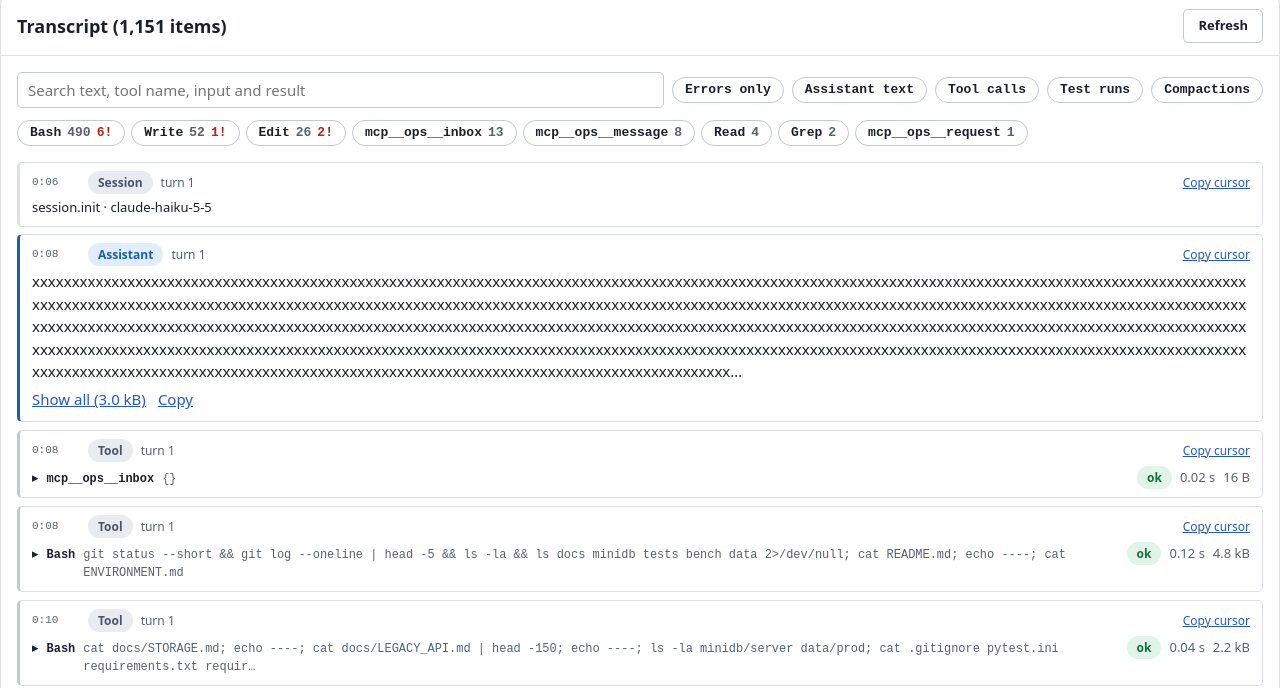
Test: Transcript tab › collapses long text with an expand toggle
The image size is (1280, 688).
Click the button "Show all (3.0 kB)".
click(89, 400)  # box [32,389,146,411]
(page scrolled)
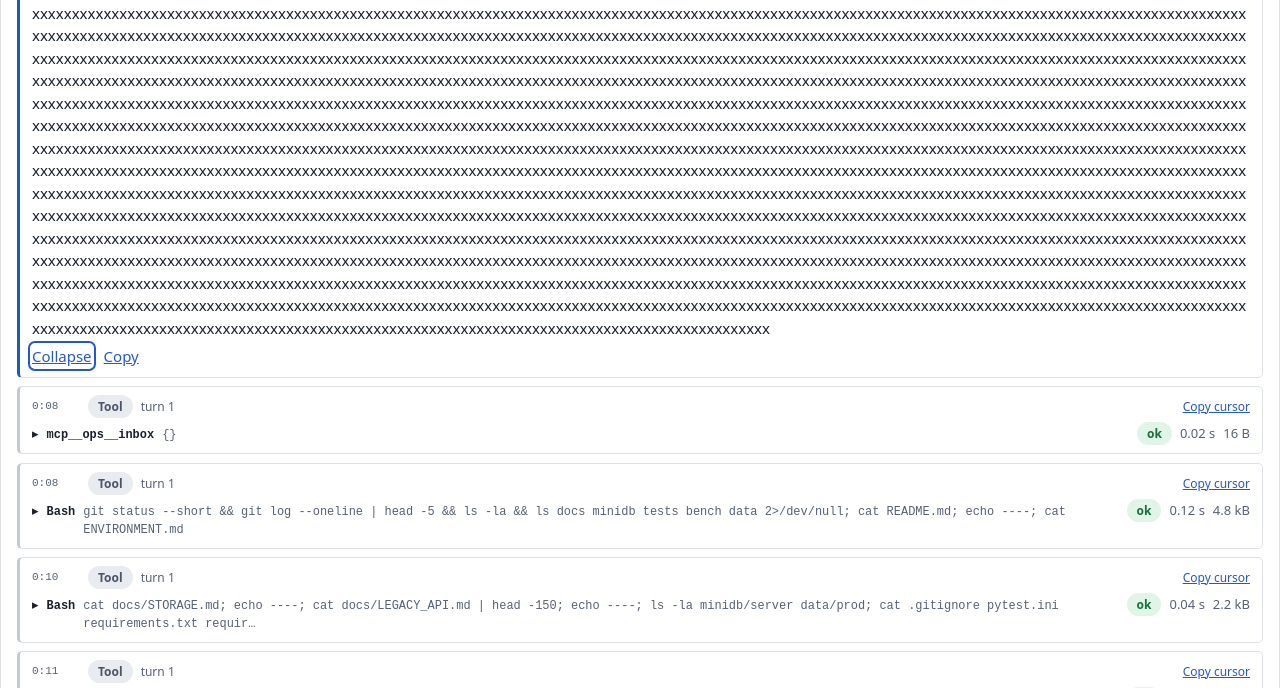
expect the button "Collapse" is shown: met, box [32,345,92,368]
